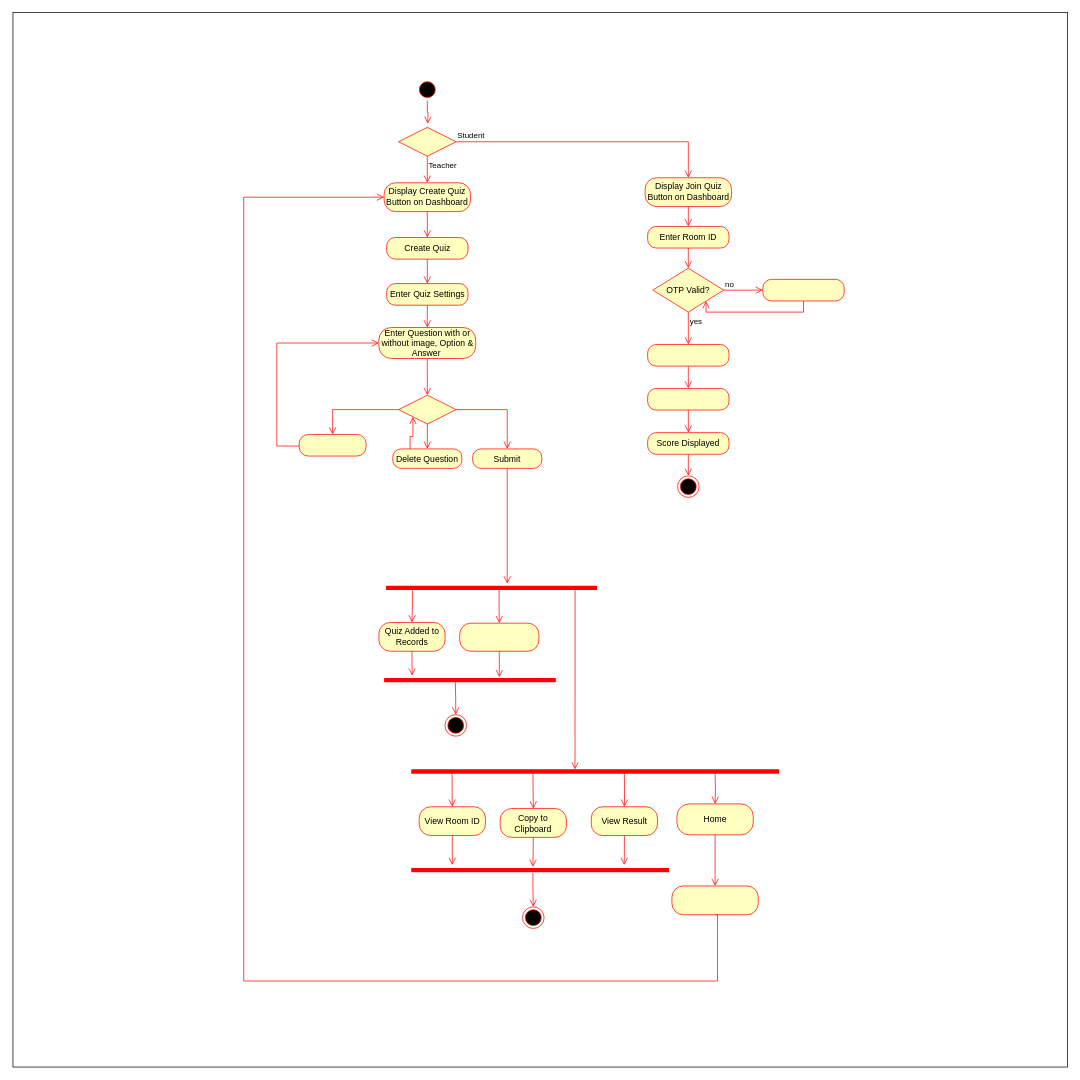
Image size: 1080x1080. Some labels were removed from this diagram. The shapes that lost their labels are listed below. From the top down, each one's box as (x1, y1, x2, y2) in pixels, then its label:
(398, 127, 456, 156): Login?
(762, 279, 844, 301): Invalid OTP
(647, 344, 729, 366): Quiz Displayed
(398, 394, 456, 424): Choice
(647, 388, 729, 410): Quiz Given
(298, 434, 366, 456): Add Question
(459, 622, 539, 651): Room ID Generted
(671, 885, 758, 915): Dashboard
